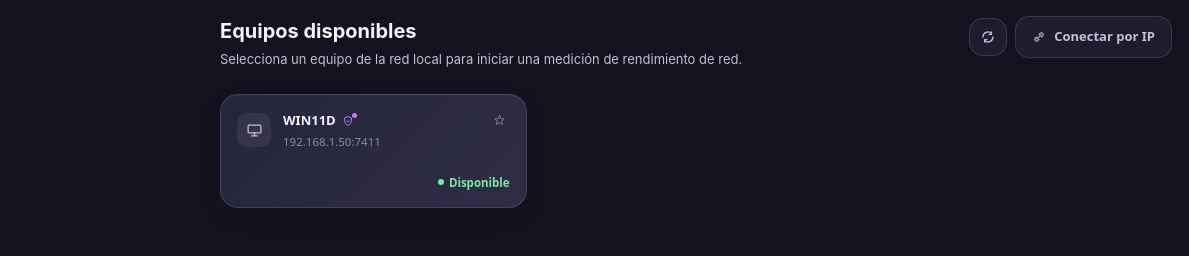
Test: Inicio: menú contextual de un equipo › «Quitar marca de confianza» avisa con el equipo y cierra el menú
This screenshot has width=1189, height=256.
Step 1. Right-click the list item → (373,151), box [220, 94, 527, 208]
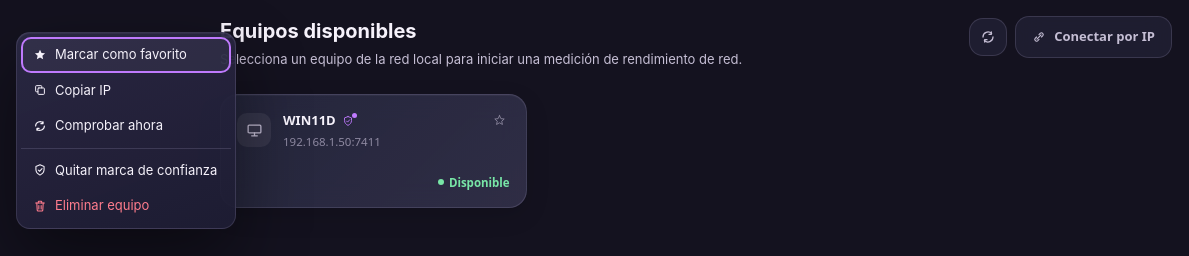
Step 2. Click the menu item "Quitar marca de confianza" → (126,170), box [21, 152, 231, 188]
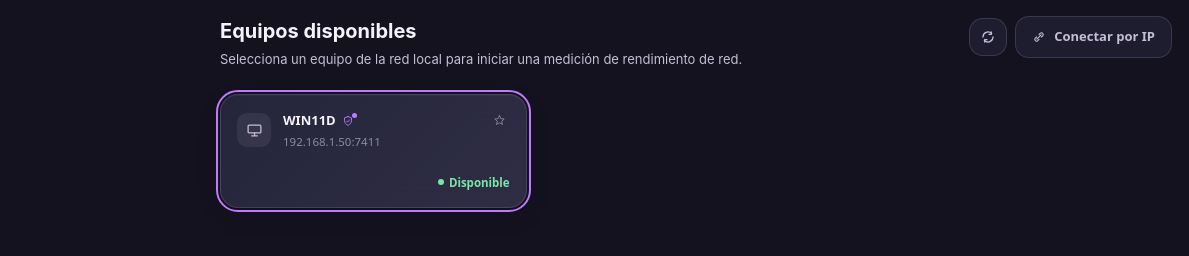
Expected: the menu is gone
